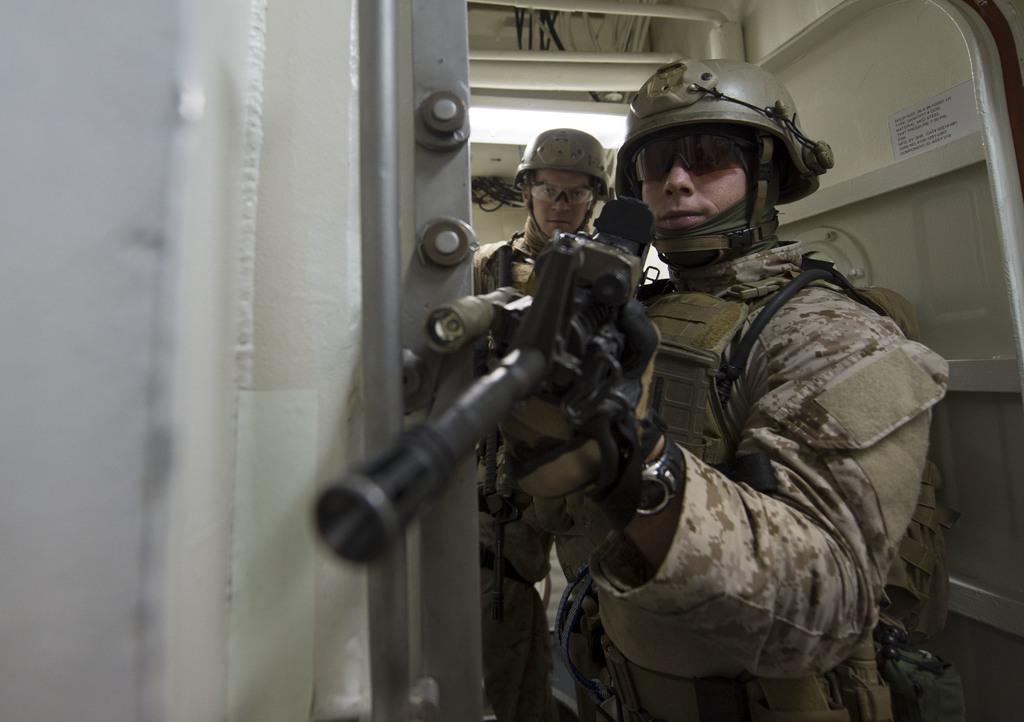non-violence: (496, 58, 945, 722), (473, 124, 622, 722)
weapon: (322, 220, 698, 594), (425, 270, 515, 358), (481, 240, 521, 369)
